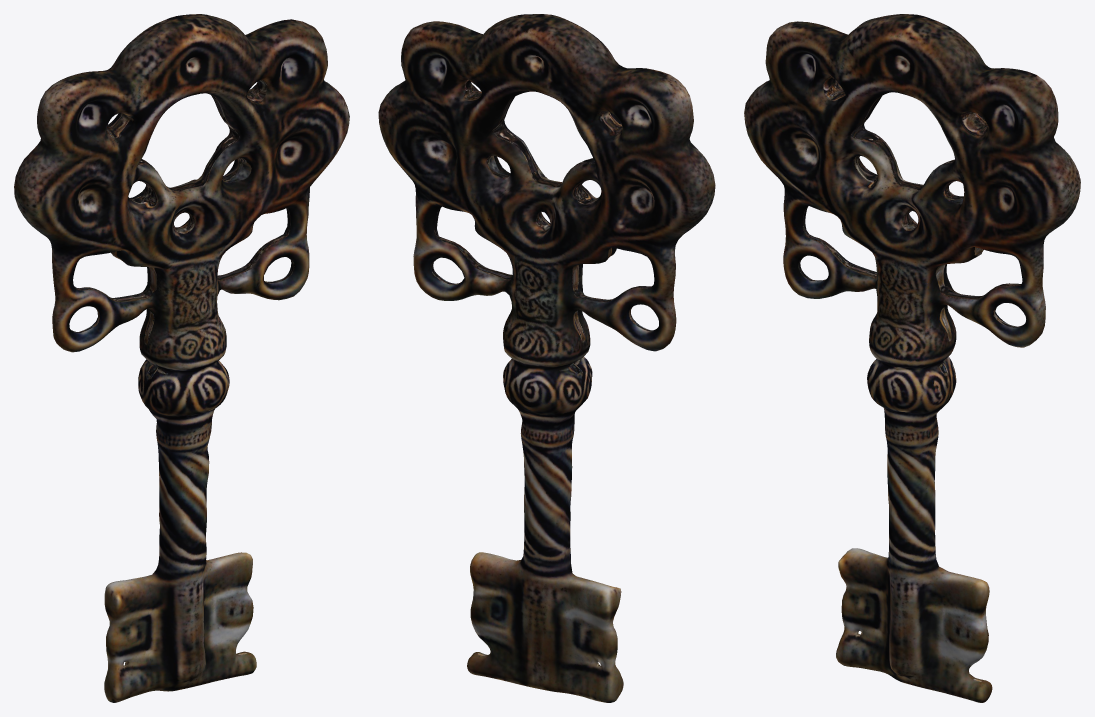
File: 50fc4033f10d_a_mystical_ancient_.obj
The picture shows the model from 3 angles, left to right: view 1: azimuth 30°, elevation 25°; view 2: azimuth 150°, elevation 25°; view 3: azimuth 330°, elevation 25°; orthographic projection.
Visible parts, largest first — view 1: mesh; view 2: mesh; view 3: mesh.
Part boxes in pixels (left/top/right/bottom): mesh: left=14, top=14, right=349, bottom=702; mesh: left=378, top=14, right=715, bottom=702; mesh: left=744, top=14, right=1080, bottom=702.
Size of the model in its own units: 0.5106 by 0.999 by 0.1167.
Materials: 1 (1 with a texture image).
